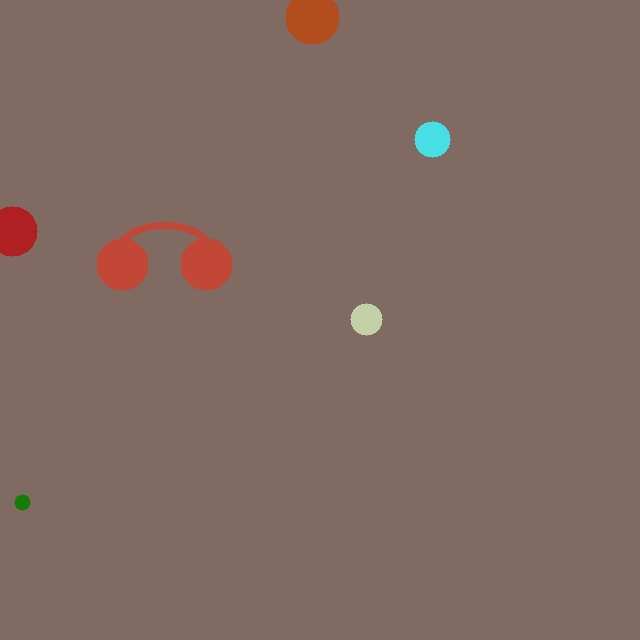over_ear: (92, 209, 236, 294)
